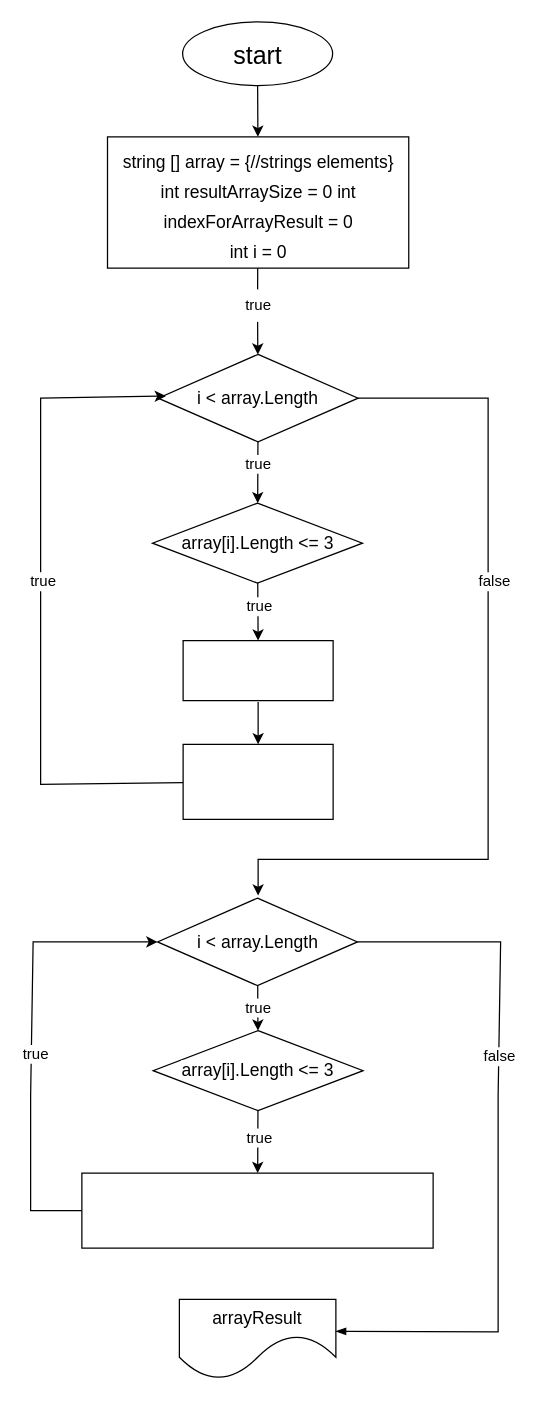
This 538x1401 diagram has some shape labels left out. Here are the shapes that lost their labels. From the top down, the centre of each, then its label:
(257,670): resultArraySize++
(257,781): index += 1
(257,1210): arrayResult[indexForResultArray] = array[i] indexForResultArray++
